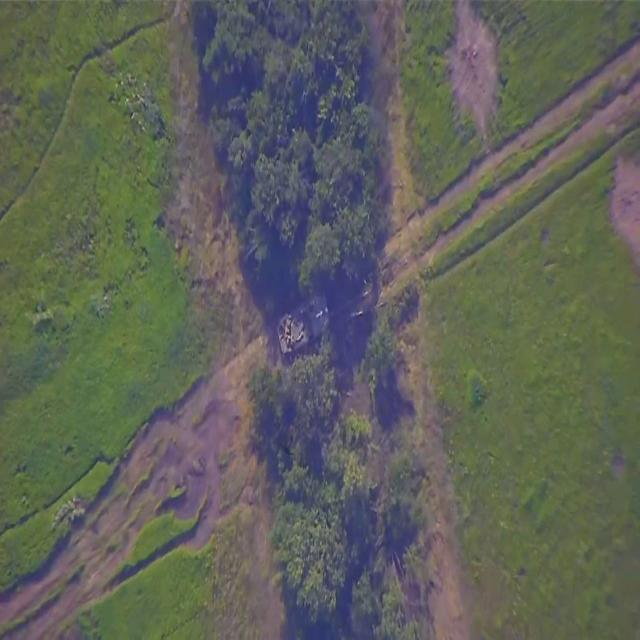AIFV: (277, 288, 334, 360)
